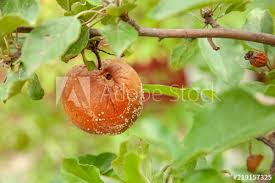damaged_apple: (62, 54, 142, 138)
